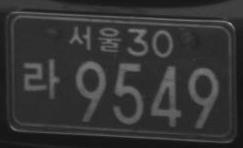0: (150, 27, 174, 58)
3: (125, 26, 150, 57)
4: (149, 63, 182, 128)
5: (111, 61, 145, 126)
9: (73, 58, 108, 123), (186, 65, 221, 129)
라: (20, 58, 61, 100)
서울_O: (67, 23, 123, 54)
